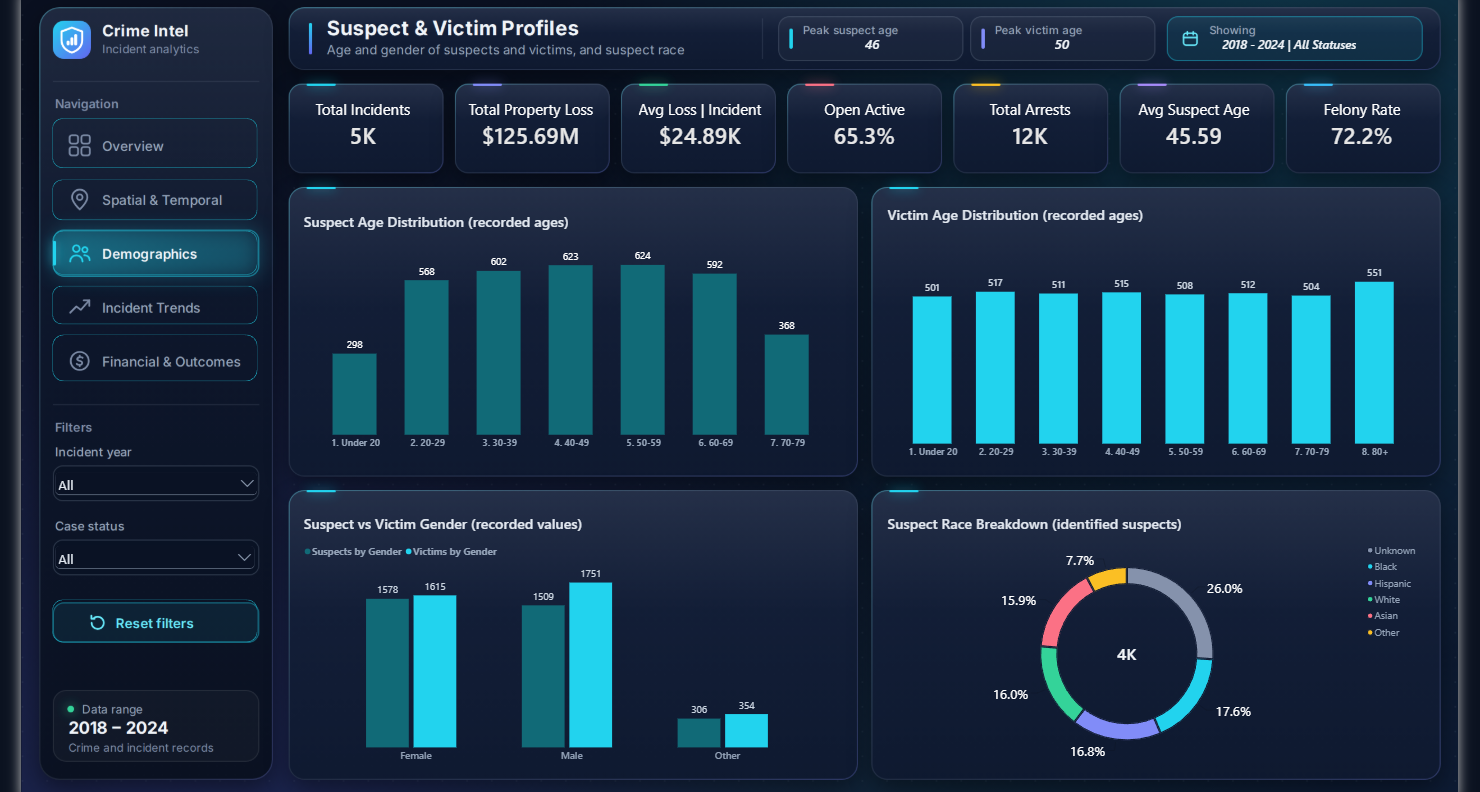

What the dashboard file says about the page in this screenshot:
{"tool":"powerbi","page":{"name":"Demographic Analysis","canvas":[2560,1440],"ordinal":2},"visuals":[{"type":"slicer","fields":{"Values":["crime_incidents_cleaned.incident_year"]},"box":[56.4,851.5,370.6,63.8],"z":0},{"type":"slicer","fields":{"Values":["crime_incidents_cleaned.case_status"]},"box":[56.4,981.6,365.6,56.4],"z":1000},{"type":"clusteredColumnChart","title":"Suspect vs Victim Gender (recorded values)","fields":{"Category":["Gender List.Gender"],"Y":["Measures (2).Suspects by Gender","Measures (2).Victims by Gender"]},"box":[488.3,915.3,986.5,478.5],"z":2000},{"type":"clusteredColumnChart","title":"Victim Age Distribution (recorded ages)","fields":{"Category":["crime_incidents_cleaned.Victim Age Group"],"Y":["Measures (2).Total Incidents"]},"box":[1526.4,365.6,981.6,485.9],"z":3000},{"type":"donutChart","title":"Suspect Race Breakdown (identified suspects)","fields":{"Category":["crime_incidents_cleaned.suspect_race"],"Y":["Measures (2).Total Incidents"]},"box":[1526.4,915.3,981.6,478.5],"z":4000},{"type":"clusteredColumnChart","title":"Suspect Age Distribution (recorded ages)","fields":{"Category":["crime_incidents_cleaned.Suspect Age Group"],"Y":["Measures (2).Total Incidents"]},"box":[488.3,375.5,986.5,458.9],"z":5000},{"type":"shape","box":[56.4,225.7,365.4,88.7],"z":6000},{"type":"shape","box":[56.4,424.5,365.6,78.5],"z":7000},{"type":"shape","box":[56.4,522.7,365.6,68.7],"z":8000},{"type":"shape","box":[56.4,611,365.6,83.4],"z":9000},{"type":"shape","box":[56.4,1082.2,365.6,76.1],"z":10000},{"type":"shape","box":[56.4,333.2,365.4,72.5],"z":11000},{"type":"cardVisual","fields":{"Data":["Measures (2).Total Incidents"]},"box":[485.9,176.7,247.9,135],"z":12000},{"type":"cardVisual","fields":{"Data":["Measures (2).Total Property Loss"]},"box":[777.9,176.7,262.6,135],"z":13000},{"type":"cardVisual","fields":{"Data":["Measures (2).Avg Loss Per Incident"]},"box":[1082.2,176.7,255.2,135],"z":14000},{"type":"cardVisual","fields":{"Data":["Measures (2).Total Arrests"]},"box":[1668.7,176.7,255.2,135],"z":15000},{"type":"cardVisual","fields":{"Data":["Measures (2).Open Active Pct"]},"box":[1371.8,176.7,262.6,135],"z":16000},{"type":"cardVisual","fields":{"Data":["Measures (2).Avg Suspect Age"]},"box":[1955.8,176.7,269.9,135],"z":17000},{"type":"cardVisual","fields":{"Data":["Measures (2).Felony Rate Pct"]},"box":[2255.2,176.7,267.5,135],"z":18000},{"type":"cardVisual","fields":{"Data":["Measures (2).Demo Fact 1"]},"box":[1358,54,316.6,73.6],"z":18001},{"type":"cardVisual","fields":{"Data":["Measures (2).Demo Fact 2"]},"box":[1696,54,316.6,73.6],"z":18002},{"type":"cardVisual","fields":{"Data":["Measures (2).Header Showing"]},"box":[2027,63.8,466.3,56.4],"z":18003}]}

Visuals, with their boxes on the page's 2560x1440 design canvas (x1, y1, x2, y2). These are canvas units, not pixel positions in the 1480x792 screenshot, which may show the page scaled, cropped or inside an application window:
slicer - crime_incidents_cleaned.incident_year: box=[56, 852, 427, 915]
slicer - crime_incidents_cleaned.case_status: box=[56, 982, 422, 1038]
"Suspect vs Victim Gender (recorded values)" clusteredColumnChart: box=[488, 915, 1475, 1394]
"Victim Age Distribution (recorded ages)" clusteredColumnChart: box=[1526, 366, 2508, 852]
"Suspect Race Breakdown (identified suspects)" donutChart: box=[1526, 915, 2508, 1394]
"Suspect Age Distribution (recorded ages)" clusteredColumnChart: box=[488, 376, 1475, 834]
shape: box=[56, 226, 422, 314]
shape: box=[56, 424, 422, 503]
shape: box=[56, 523, 422, 591]
shape: box=[56, 611, 422, 694]
shape: box=[56, 1082, 422, 1158]
shape: box=[56, 333, 422, 406]
cardVisual - Measures (2).Total Incidents: box=[486, 177, 734, 312]
cardVisual - Measures (2).Total Property Loss: box=[778, 177, 1040, 312]
cardVisual - Measures (2).Avg Loss Per Incident: box=[1082, 177, 1337, 312]
cardVisual - Measures (2).Total Arrests: box=[1669, 177, 1924, 312]
cardVisual - Measures (2).Open Active Pct: box=[1372, 177, 1634, 312]
cardVisual - Measures (2).Avg Suspect Age: box=[1956, 177, 2226, 312]
cardVisual - Measures (2).Felony Rate Pct: box=[2255, 177, 2523, 312]
cardVisual - Measures (2).Demo Fact 1: box=[1358, 54, 1675, 128]
cardVisual - Measures (2).Demo Fact 2: box=[1696, 54, 2013, 128]
cardVisual - Measures (2).Header Showing: box=[2027, 64, 2493, 120]
